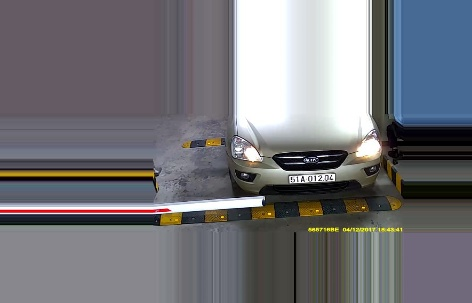plate: (288, 172, 338, 184)
